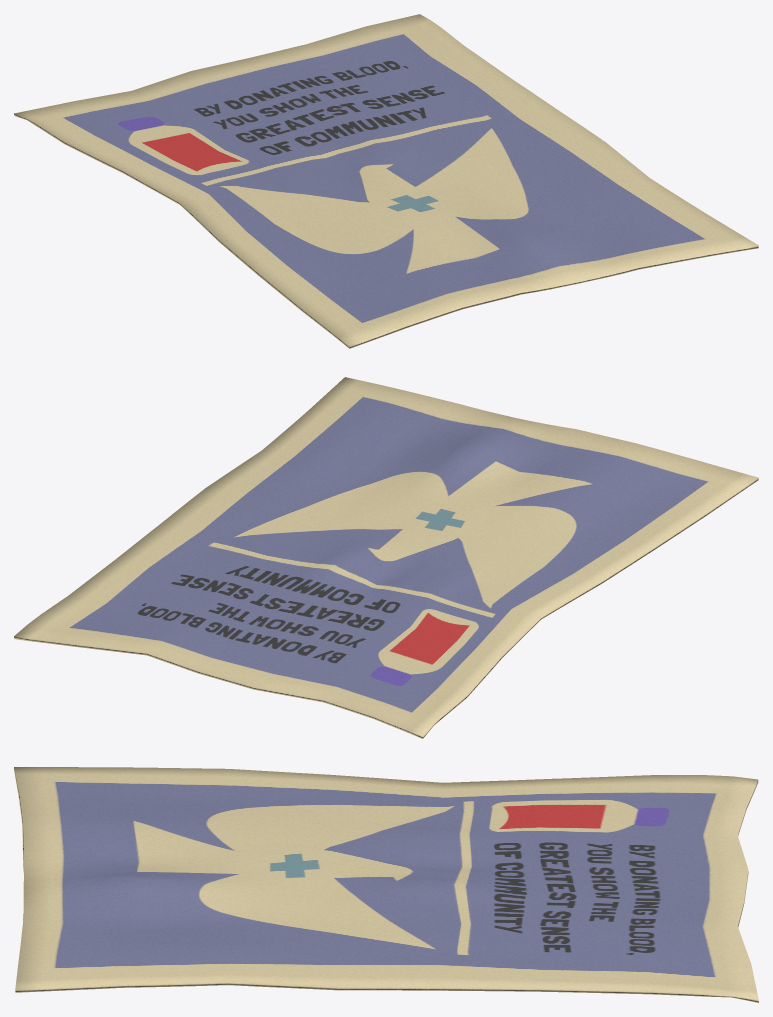
The model's file is plakat6.glb.
3 renders of one model, top to bottom at view 1: azimuth 30°, elevation 25°; view 2: azimuth 150°, elevation 25°; view 3: azimuth 270°, elevation 25°, orthographic. The views are drawn at different scales.
Visible parts, largest first — view 1: plakat6; view 2: plakat6; view 3: plakat6.
Boxes of the visible parts, bbox=[...] form: plakat6: bbox=[14, 14, 758, 348]; plakat6: bbox=[14, 377, 758, 738]; plakat6: bbox=[14, 767, 758, 1002].
Bounding box in the file's own units: 3.14 × 0.1977 × 4.42.
1 material, 1 textured.
